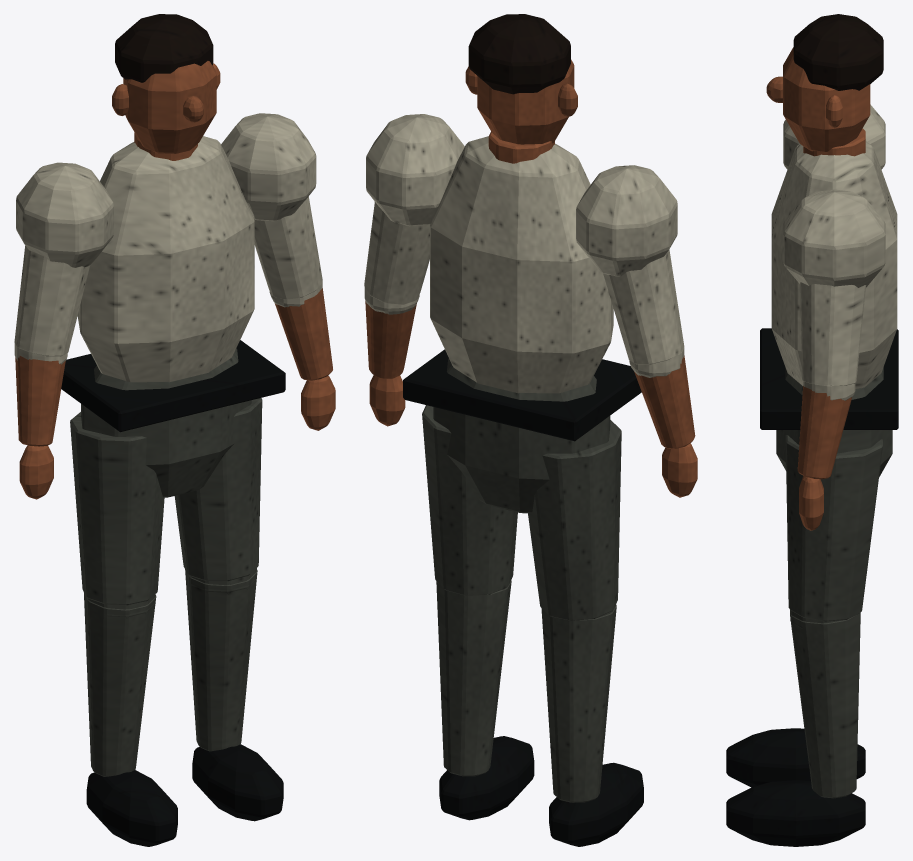
Rendered from PROP-1FAB968E3F60_lod1.glb.
3 renders of one model, left to right at view 1: azimuth 30°, elevation 25°; view 2: azimuth 150°, elevation 25°; view 3: azimuth 270°, elevation 25°, orthographic. The views are drawn at different scales.
Visible parts, largest first — view 1: torso.045, thigh.044, calf.044, shoulder.045, upper_arm.045, shoe.044, belt.044, pelvis.044, forearm.045, head.044, hair_cap.044, hand.044 (+2 smaller); view 2: torso.045, thigh.044, calf.044, shoulder.045, upper_arm.045, pelvis.044, shoe.044, belt.044, hair_cap.044, forearm.045, head.044, hand.044 (+3 smaller); view 3: torso.045, thigh.044, shoe.044, calf.044, shoulder.045, upper_arm.045, belt.044, hair_cap.044, head.044, forearm.045, pelvis.044, hand.044 (+4 smaller).
Part boxes in pixels (bbox=[...]): torso.045: bbox=[77, 136, 254, 382]; thigh.044: bbox=[70, 398, 262, 605]; calf.044: bbox=[84, 569, 257, 776]; shoulder.045: bbox=[16, 113, 316, 267]; upper_arm.045: bbox=[14, 196, 322, 356]; shoe.044: bbox=[86, 744, 283, 846]; belt.044: bbox=[61, 340, 285, 432]; pelvis.044: bbox=[81, 348, 251, 497]; forearm.045: bbox=[15, 288, 332, 446]; head.044: bbox=[123, 61, 216, 153]; hair_cap.044: bbox=[115, 14, 213, 82]; hand.044: bbox=[19, 375, 335, 499]; torso.045: bbox=[430, 136, 613, 393]; thigh.044: bbox=[422, 405, 621, 620]; calf.044: bbox=[436, 580, 616, 802]; shoulder.045: bbox=[366, 114, 677, 276]; upper_arm.045: bbox=[364, 202, 684, 364]; pelvis.044: bbox=[433, 358, 610, 513]; shoe.044: bbox=[439, 736, 643, 846]; belt.044: bbox=[403, 349, 641, 441]; hair_cap.044: bbox=[468, 14, 570, 94]; forearm.045: bbox=[365, 301, 695, 448]; head.044: bbox=[477, 59, 574, 144]; hand.044: bbox=[369, 375, 697, 497]; torso.045: bbox=[771, 141, 897, 388]; thigh.044: bbox=[785, 435, 882, 621]; shoe.044: bbox=[726, 728, 865, 846]; calf.044: bbox=[790, 610, 860, 798]; shoulder.045: bbox=[783, 104, 885, 287]; upper_arm.045: bbox=[800, 282, 866, 385]; belt.044: bbox=[760, 328, 898, 429]; hair_cap.044: bbox=[793, 14, 883, 90]; head.044: bbox=[783, 47, 870, 152]; forearm.045: bbox=[797, 386, 852, 479]; pelvis.044: bbox=[776, 367, 892, 477]; hand.044: bbox=[799, 476, 823, 530].
Bounding box in the file's own units: 0.7126 × 1.71 × 0.3357.
Materials: 5 (5 with a texture image).
